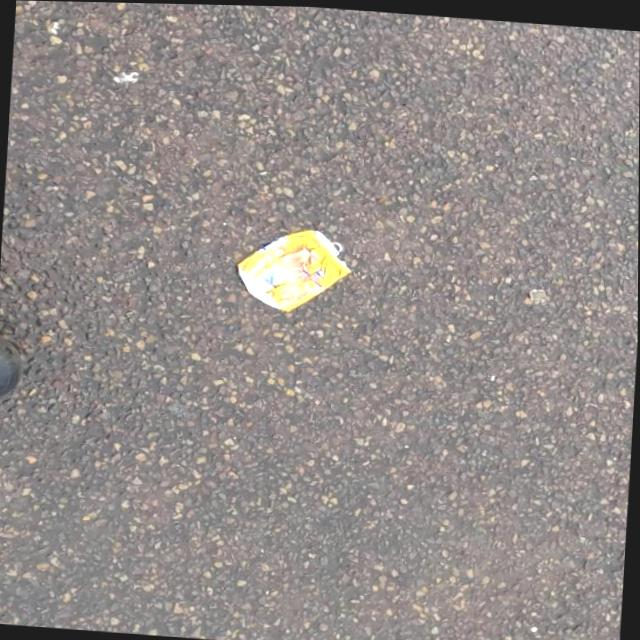Can-Metal: (229, 220, 359, 318)
